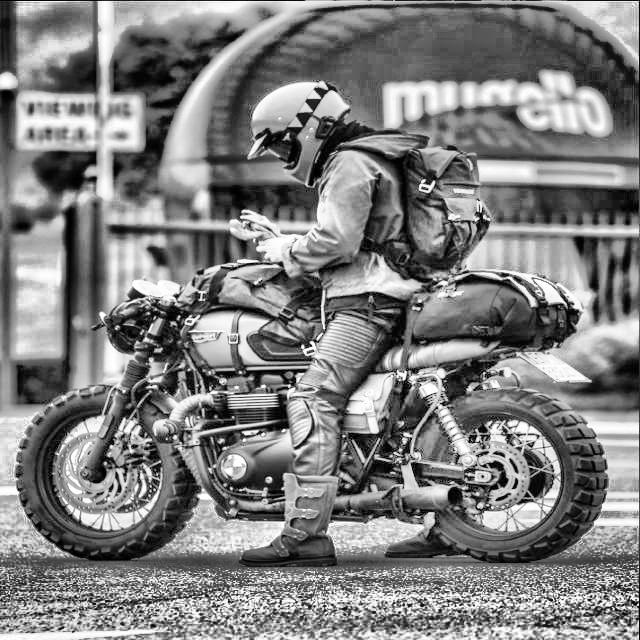Helmet: (238, 74, 354, 192)
